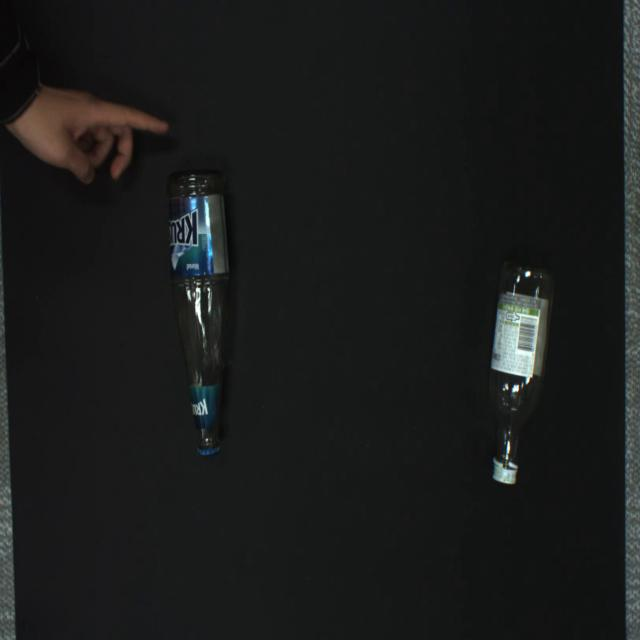beer-bottle: (167, 171, 230, 456)
soju-bottle: (488, 263, 554, 484)
